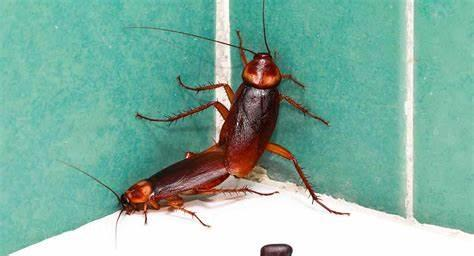cockroach: (215, 49, 284, 185), (118, 149, 234, 216)
